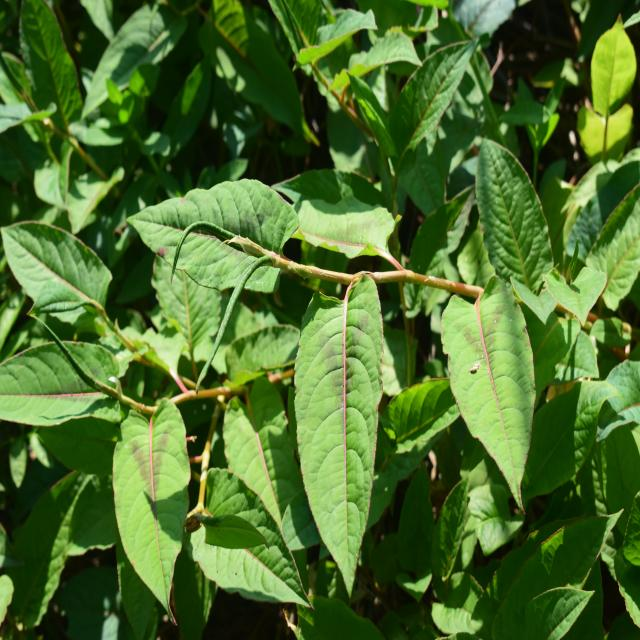Chinese_knotweed: (139, 138, 387, 550), (10, 197, 195, 606)
